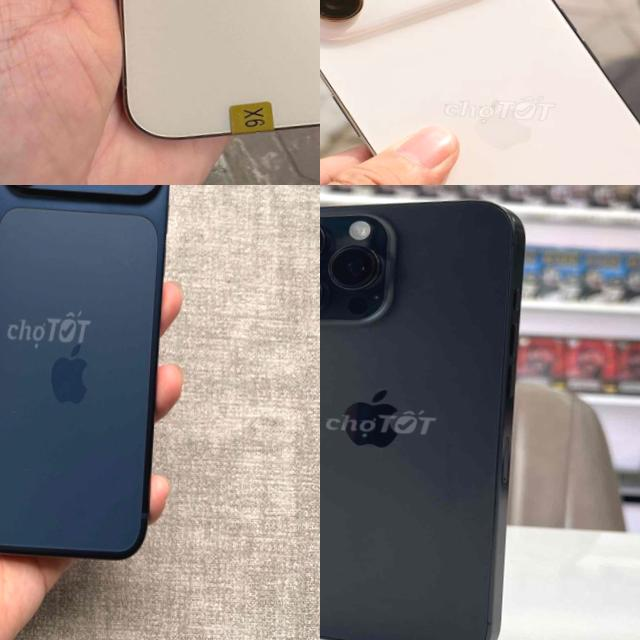gen_12_13: (73, 0, 320, 157)
gen_16: (320, 201, 524, 640)
gen_17: (0, 185, 183, 570), (320, 0, 640, 185)
